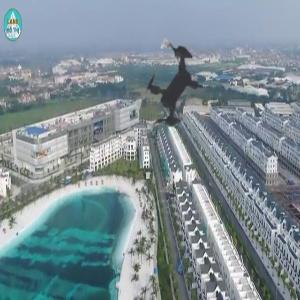drone: (103, 20, 244, 161)
